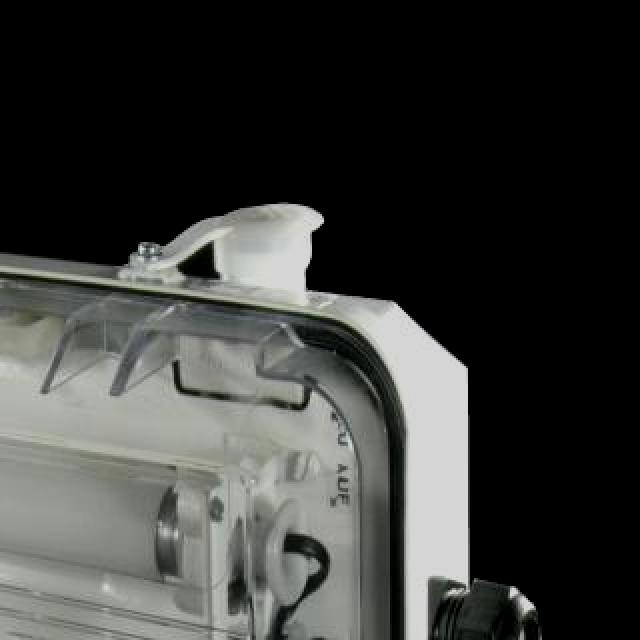fluorescent tube: (0, 194, 316, 628), (0, 556, 256, 640)
